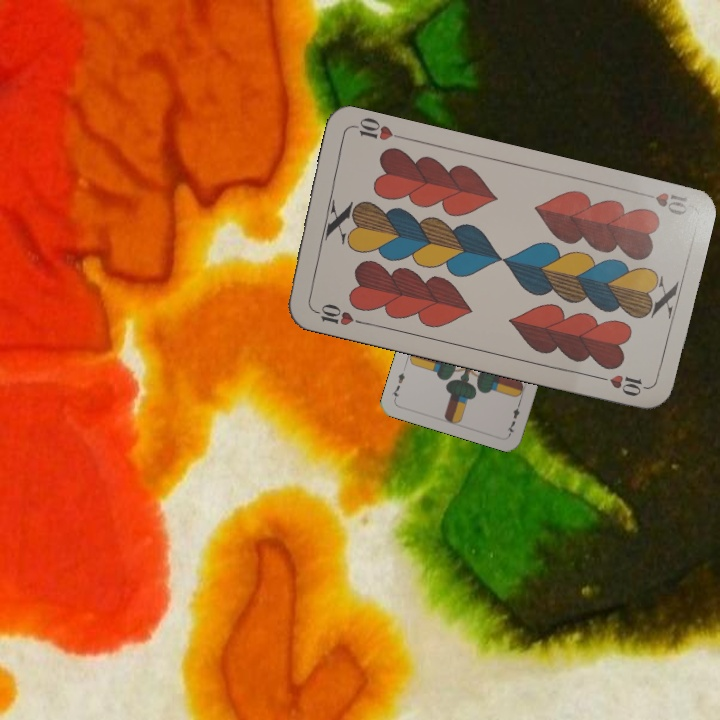E7: (503, 397, 523, 436)
H10: (307, 299, 365, 328), (650, 188, 690, 218)
